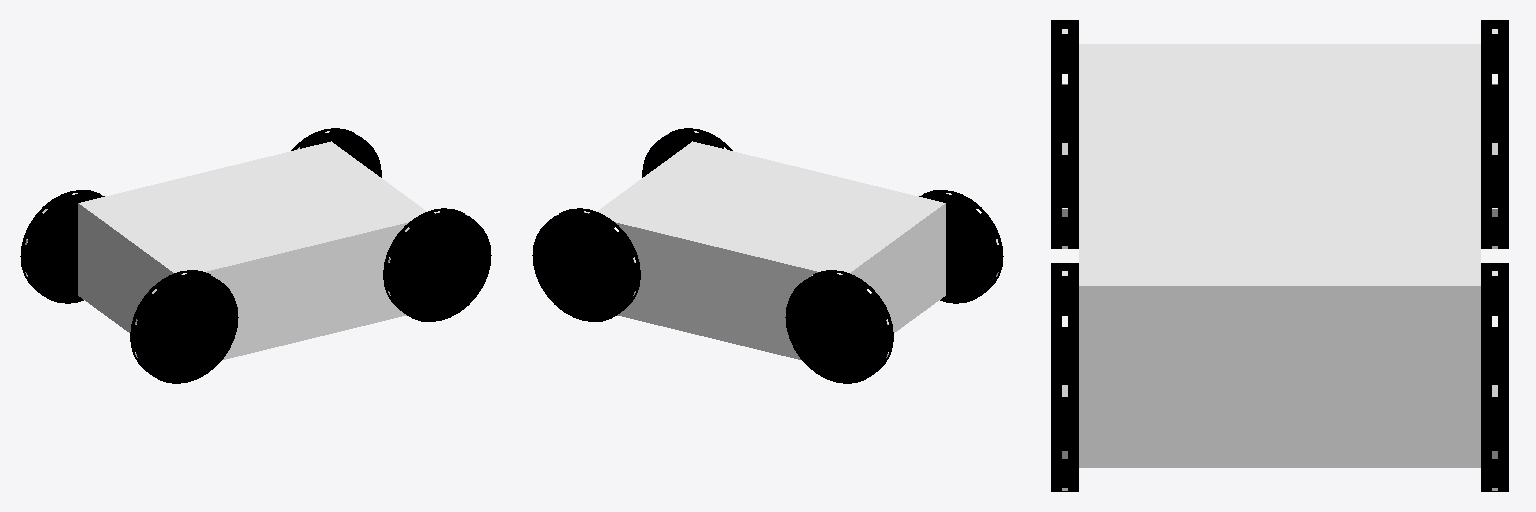
URDF robot description (adabot):
<?xml version="1.0" ?>
<!-- =================================================================================== -->
<!-- |    This document was autogenerated by xacro from adabot.xacro                   | -->
<!-- |    EDITING THIS FILE BY HAND IS NOT RECOMMENDED                                 | -->
<!-- =================================================================================== -->
<robot name="adabot" xmlns:xacro="http://www.ros.org/wiki/xacro">
  <material name="black">
    <color rgba="0 0 0 1"/>
  </material>
  <material name="white">
    <color rgba="1 1 1 1"/>
  </material>
  <material name="red">
    <color rgba=".255, 0, 0, .001"/>
  </material>
  <!--
         The main chassis/body
    -->
  <link name="base_link">
    <visual>
      <origin rpy="0 0 0" xyz="0 0 0.011"/>
      <geometry>
        <box size="0.1 0.07 0.035"/>
      </geometry>
      <material name="white"/>
    </visual>
    <collision>
      <origin rpy="0 0 0" xyz="0 0 0.011"/>
      <geometry>
        <box size="0.1 0.07 0.035"/>
      </geometry>
    </collision>
    <inertial>
      <mass value="0.1225"/>
      <inertia ixx="6.25260416667e-05" ixy="0" ixz="0" iyy="0.000114588541667" iyz="0" izz="0.000152104166667"/>
    </inertial>
  </link>
  <link name="wh-front-left">
    <visual>
      <origin rpy="1.57075 0 0" xyz="0 0 0"/>
      <geometry>
        <cylinder length="0.005" radius="0.02"/>
      </geometry>
      <material name="black"/>
    </visual>
    <collision>
      <origin rpy="1.57075 0 0" xyz="0 0 0"/>
      <geometry>
        <cylinder length="0.005" radius="0.02"/>
      </geometry>
    </collision>
    <inertial>
      <mass value="0.003145927"/>
      <inertia ixx="3.21146714583e-07" ixy="0" ixz="0" iyy="3.21146714583e-07" iyz="0" izz="6.291854e-07"/>
    </inertial>
  </link>
  <joint name="ax-front-left" type="continuous">
    <parent link="base_link"/>
    <child link="wh-front-left"/>
    <origin rpy="0 0 0" xyz="0.05 -0.0375 0.011"/>
    <axis xyz="0 1 0"/>
  </joint>
  <link name="wg-front-left-1">
    <visual>
      <origin rpy="0 0 0" xyz="0 0 0"/>
      <geometry>
        <box size="0.002 0.001 0.04"/>
      </geometry>
      <material name="white"/>
    </visual>
    <collision>
      <origin rpy="0 0 0" xyz="0 0 0"/>
      <geometry>
        <box size="0.002 0.001 0.04"/>
      </geometry>
    </collision>
    <inertial>
      <mass value="4e-05"/>
      <inertia ixx="5.33666666667e-09" ixy="0" ixz="0" iyy="5.34666666667e-09" iyz="0" izz="1.66666666667e-11"/>
    </inertial>
  </link>
  <joint name="wg-front-left-1-joint" type="prismatic">
    <parent link="wh-front-left"/>
    <child link="wg-front-left-1"/>
    <origin rpy="0 1.25663706144 0" xyz="0 0 0"/>
    <limit effort="1" lower="0.005" upper="0" velocity="1"/>
  </joint>
  <link name="wg-front-left-2">
    <visual>
      <origin rpy="0 0 0" xyz="0 0 0"/>
      <geometry>
        <box size="0.002 0.001 0.04"/>
      </geometry>
      <material name="white"/>
    </visual>
    <collision>
      <origin rpy="0 0 0" xyz="0 0 0"/>
      <geometry>
        <box size="0.002 0.001 0.04"/>
      </geometry>
    </collision>
    <inertial>
      <mass value="4e-05"/>
      <inertia ixx="5.33666666667e-09" ixy="0" ixz="0" iyy="5.34666666667e-09" iyz="0" izz="1.66666666667e-11"/>
    </inertial>
  </link>
  <joint name="wg-front-left-2-joint" type="prismatic">
    <parent link="wh-front-left"/>
    <child link="wg-front-left-2"/>
    <origin rpy="0 2.51327412287 0" xyz="0 0 0"/>
    <limit effort="1" lower="0.005" upper="0" velocity="1"/>
  </joint>
  <link name="wg-front-left-3">
    <visual>
      <origin rpy="0 0 0" xyz="0 0 0"/>
      <geometry>
        <box size="0.002 0.001 0.04"/>
      </geometry>
      <material name="white"/>
    </visual>
    <collision>
      <origin rpy="0 0 0" xyz="0 0 0"/>
      <geometry>
        <box size="0.002 0.001 0.04"/>
      </geometry>
    </collision>
    <inertial>
      <mass value="4e-05"/>
      <inertia ixx="5.33666666667e-09" ixy="0" ixz="0" iyy="5.34666666667e-09" iyz="0" izz="1.66666666667e-11"/>
    </inertial>
  </link>
  <joint name="wg-front-left-3-joint" type="prismatic">
    <parent link="wh-front-left"/>
    <child link="wg-front-left-3"/>
    <origin rpy="0 3.76991118431 0" xyz="0 0 0"/>
    <limit effort="1" lower="0.005" upper="0" velocity="1"/>
  </joint>
  <link name="wg-front-left-4">
    <visual>
      <origin rpy="0 0 0" xyz="0 0 0"/>
      <geometry>
        <box size="0.002 0.001 0.04"/>
      </geometry>
      <material name="white"/>
    </visual>
    <collision>
      <origin rpy="0 0 0" xyz="0 0 0"/>
      <geometry>
        <box size="0.002 0.001 0.04"/>
      </geometry>
    </collision>
    <inertial>
      <mass value="4e-05"/>
      <inertia ixx="5.33666666667e-09" ixy="0" ixz="0" iyy="5.34666666667e-09" iyz="0" izz="1.66666666667e-11"/>
    </inertial>
  </link>
  <joint name="wg-front-left-4-joint" type="prismatic">
    <parent link="wh-front-left"/>
    <child link="wg-front-left-4"/>
    <origin rpy="0 5.02654824574 0" xyz="0 0 0"/>
    <limit effort="1" lower="0.005" upper="0" velocity="1"/>
  </joint>
  <link name="wg-front-left-5">
    <visual>
      <origin rpy="0 0 0" xyz="0 0 0"/>
      <geometry>
        <box size="0.002 0.001 0.04"/>
      </geometry>
      <material name="white"/>
    </visual>
    <collision>
      <origin rpy="0 0 0" xyz="0 0 0"/>
      <geometry>
        <box size="0.002 0.001 0.04"/>
      </geometry>
    </collision>
    <inertial>
      <mass value="4e-05"/>
      <inertia ixx="5.33666666667e-09" ixy="0" ixz="0" iyy="5.34666666667e-09" iyz="0" izz="1.66666666667e-11"/>
    </inertial>
  </link>
  <joint name="wg-front-left-5-joint" type="prismatic">
    <parent link="wh-front-left"/>
    <child link="wg-front-left-5"/>
    <origin rpy="0 6.28318530718 0" xyz="0 0 0"/>
    <limit effort="1" lower="0.005" upper="0" velocity="1"/>
  </joint>
  <link name="wh-front-right">
    <visual>
      <origin rpy="1.57075 0 0" xyz="0 0 0"/>
      <geometry>
        <cylinder length="0.005" radius="0.02"/>
      </geometry>
      <material name="black"/>
    </visual>
    <collision>
      <origin rpy="1.57075 0 0" xyz="0 0 0"/>
      <geometry>
        <cylinder length="0.005" radius="0.02"/>
      </geometry>
    </collision>
    <inertial>
      <mass value="0.003145927"/>
      <inertia ixx="3.21146714583e-07" ixy="0" ixz="0" iyy="3.21146714583e-07" iyz="0" izz="6.291854e-07"/>
    </inertial>
  </link>
  <joint name="ax-front-right" type="continuous">
    <parent link="base_link"/>
    <child link="wh-front-right"/>
    <origin rpy="0 0 0" xyz="0.05 0.0375 0.011"/>
    <axis xyz="0 1 0"/>
  </joint>
  <link name="wg-front-right-1">
    <visual>
      <origin rpy="0 0 0" xyz="0 0 0"/>
      <geometry>
        <box size="0.002 0.001 0.04"/>
      </geometry>
      <material name="white"/>
    </visual>
    <collision>
      <origin rpy="0 0 0" xyz="0 0 0"/>
      <geometry>
        <box size="0.002 0.001 0.04"/>
      </geometry>
    </collision>
    <inertial>
      <mass value="4e-05"/>
      <inertia ixx="5.33666666667e-09" ixy="0" ixz="0" iyy="5.34666666667e-09" iyz="0" izz="1.66666666667e-11"/>
    </inertial>
  </link>
  <joint name="wg-front-right-1-joint" type="prismatic">
    <parent link="wh-front-right"/>
    <child link="wg-front-right-1"/>
    <origin rpy="0 1.25663706144 0" xyz="0 0 0"/>
    <limit effort="1" lower="0.005" upper="0" velocity="1"/>
  </joint>
  <link name="wg-front-right-2">
    <visual>
      <origin rpy="0 0 0" xyz="0 0 0"/>
      <geometry>
        <box size="0.002 0.001 0.04"/>
      </geometry>
      <material name="white"/>
    </visual>
    <collision>
      <origin rpy="0 0 0" xyz="0 0 0"/>
      <geometry>
        <box size="0.002 0.001 0.04"/>
      </geometry>
    </collision>
    <inertial>
      <mass value="4e-05"/>
      <inertia ixx="5.33666666667e-09" ixy="0" ixz="0" iyy="5.34666666667e-09" iyz="0" izz="1.66666666667e-11"/>
    </inertial>
  </link>
  <joint name="wg-front-right-2-joint" type="prismatic">
    <parent link="wh-front-right"/>
    <child link="wg-front-right-2"/>
    <origin rpy="0 2.51327412287 0" xyz="0 0 0"/>
    <limit effort="1" lower="0.005" upper="0" velocity="1"/>
  </joint>
  <link name="wg-front-right-3">
    <visual>
      <origin rpy="0 0 0" xyz="0 0 0"/>
      <geometry>
        <box size="0.002 0.001 0.04"/>
      </geometry>
      <material name="white"/>
    </visual>
    <collision>
      <origin rpy="0 0 0" xyz="0 0 0"/>
      <geometry>
        <box size="0.002 0.001 0.04"/>
      </geometry>
    </collision>
    <inertial>
      <mass value="4e-05"/>
      <inertia ixx="5.33666666667e-09" ixy="0" ixz="0" iyy="5.34666666667e-09" iyz="0" izz="1.66666666667e-11"/>
    </inertial>
  </link>
  <joint name="wg-front-right-3-joint" type="prismatic">
    <parent link="wh-front-right"/>
    <child link="wg-front-right-3"/>
    <origin rpy="0 3.76991118431 0" xyz="0 0 0"/>
    <limit effort="1" lower="0.005" upper="0" velocity="1"/>
  </joint>
  <link name="wg-front-right-4">
    <visual>
      <origin rpy="0 0 0" xyz="0 0 0"/>
      <geometry>
        <box size="0.002 0.001 0.04"/>
      </geometry>
      <material name="white"/>
    </visual>
    <collision>
      <origin rpy="0 0 0" xyz="0 0 0"/>
      <geometry>
        <box size="0.002 0.001 0.04"/>
      </geometry>
    </collision>
    <inertial>
      <mass value="4e-05"/>
      <inertia ixx="5.33666666667e-09" ixy="0" ixz="0" iyy="5.34666666667e-09" iyz="0" izz="1.66666666667e-11"/>
    </inertial>
  </link>
  <joint name="wg-front-right-4-joint" type="prismatic">
    <parent link="wh-front-right"/>
    <child link="wg-front-right-4"/>
    <origin rpy="0 5.02654824574 0" xyz="0 0 0"/>
    <limit effort="1" lower="0.005" upper="0" velocity="1"/>
  </joint>
  <link name="wg-front-right-5">
    <visual>
      <origin rpy="0 0 0" xyz="0 0 0"/>
      <geometry>
        <box size="0.002 0.001 0.04"/>
      </geometry>
      <material name="white"/>
    </visual>
    <collision>
      <origin rpy="0 0 0" xyz="0 0 0"/>
      <geometry>
        <box size="0.002 0.001 0.04"/>
      </geometry>
    </collision>
    <inertial>
      <mass value="4e-05"/>
      <inertia ixx="5.33666666667e-09" ixy="0" ixz="0" iyy="5.34666666667e-09" iyz="0" izz="1.66666666667e-11"/>
    </inertial>
  </link>
  <joint name="wg-front-right-5-joint" type="prismatic">
    <parent link="wh-front-right"/>
    <child link="wg-front-right-5"/>
    <origin rpy="0 6.28318530718 0" xyz="0 0 0"/>
    <limit effort="1" lower="0.005" upper="0" velocity="1"/>
  </joint>
  <link name="wh-back-left">
    <visual>
      <origin rpy="1.57075 0 0" xyz="0 0 0"/>
      <geometry>
        <cylinder length="0.005" radius="0.02"/>
      </geometry>
      <material name="black"/>
    </visual>
    <collision>
      <origin rpy="1.57075 0 0" xyz="0 0 0"/>
      <geometry>
        <cylinder length="0.005" radius="0.02"/>
      </geometry>
    </collision>
    <inertial>
      <mass value="0.003145927"/>
      <inertia ixx="3.21146714583e-07" ixy="0" ixz="0" iyy="3.21146714583e-07" iyz="0" izz="6.291854e-07"/>
    </inertial>
  </link>
  <joint name="ax-back-left" type="continuous">
    <parent link="base_link"/>
    <child link="wh-back-left"/>
    <origin rpy="0 0 0" xyz="-0.05 -0.0375 0.011"/>
    <axis xyz="0 1 0"/>
  </joint>
  <link name="wg-back-left-1">
    <visual>
      <origin rpy="0 0 0" xyz="0 0 0"/>
      <geometry>
        <box size="0.002 0.001 0.04"/>
      </geometry>
      <material name="white"/>
    </visual>
    <collision>
      <origin rpy="0 0 0" xyz="0 0 0"/>
      <geometry>
        <box size="0.002 0.001 0.04"/>
      </geometry>
    </collision>
    <inertial>
      <mass value="4e-05"/>
      <inertia ixx="5.33666666667e-09" ixy="0" ixz="0" iyy="5.34666666667e-09" iyz="0" izz="1.66666666667e-11"/>
    </inertial>
  </link>
  <joint name="wg-back-left-1-joint" type="prismatic">
    <parent link="wh-back-left"/>
    <child link="wg-back-left-1"/>
    <origin rpy="0 1.25663706144 0" xyz="0 0 0"/>
    <limit effort="1" lower="0.005" upper="0" velocity="1"/>
  </joint>
  <link name="wg-back-left-2">
    <visual>
      <origin rpy="0 0 0" xyz="0 0 0"/>
      <geometry>
        <box size="0.002 0.001 0.04"/>
      </geometry>
      <material name="white"/>
    </visual>
    <collision>
      <origin rpy="0 0 0" xyz="0 0 0"/>
      <geometry>
        <box size="0.002 0.001 0.04"/>
      </geometry>
    </collision>
    <inertial>
      <mass value="4e-05"/>
      <inertia ixx="5.33666666667e-09" ixy="0" ixz="0" iyy="5.34666666667e-09" iyz="0" izz="1.66666666667e-11"/>
    </inertial>
  </link>
  <joint name="wg-back-left-2-joint" type="prismatic">
    <parent link="wh-back-left"/>
    <child link="wg-back-left-2"/>
    <origin rpy="0 2.51327412287 0" xyz="0 0 0"/>
    <limit effort="1" lower="0.005" upper="0" velocity="1"/>
  </joint>
  <link name="wg-back-left-3">
    <visual>
      <origin rpy="0 0 0" xyz="0 0 0"/>
      <geometry>
        <box size="0.002 0.001 0.04"/>
      </geometry>
      <material name="white"/>
    </visual>
    <collision>
      <origin rpy="0 0 0" xyz="0 0 0"/>
      <geometry>
        <box size="0.002 0.001 0.04"/>
      </geometry>
    </collision>
    <inertial>
      <mass value="4e-05"/>
      <inertia ixx="5.33666666667e-09" ixy="0" ixz="0" iyy="5.34666666667e-09" iyz="0" izz="1.66666666667e-11"/>
    </inertial>
  </link>
  <joint name="wg-back-left-3-joint" type="prismatic">
    <parent link="wh-back-left"/>
    <child link="wg-back-left-3"/>
    <origin rpy="0 3.76991118431 0" xyz="0 0 0"/>
    <limit effort="1" lower="0.005" upper="0" velocity="1"/>
  </joint>
  <link name="wg-back-left-4">
    <visual>
      <origin rpy="0 0 0" xyz="0 0 0"/>
      <geometry>
        <box size="0.002 0.001 0.04"/>
      </geometry>
      <material name="white"/>
    </visual>
    <collision>
      <origin rpy="0 0 0" xyz="0 0 0"/>
      <geometry>
        <box size="0.002 0.001 0.04"/>
      </geometry>
    </collision>
    <inertial>
      <mass value="4e-05"/>
      <inertia ixx="5.33666666667e-09" ixy="0" ixz="0" iyy="5.34666666667e-09" iyz="0" izz="1.66666666667e-11"/>
    </inertial>
  </link>
  <joint name="wg-back-left-4-joint" type="prismatic">
    <parent link="wh-back-left"/>
    <child link="wg-back-left-4"/>
    <origin rpy="0 5.02654824574 0" xyz="0 0 0"/>
    <limit effort="1" lower="0.005" upper="0" velocity="1"/>
  </joint>
  <link name="wg-back-left-5">
    <visual>
      <origin rpy="0 0 0" xyz="0 0 0"/>
      <geometry>
        <box size="0.002 0.001 0.04"/>
      </geometry>
      <material name="white"/>
    </visual>
    <collision>
      <origin rpy="0 0 0" xyz="0 0 0"/>
      <geometry>
        <box size="0.002 0.001 0.04"/>
      </geometry>
    </collision>
    <inertial>
      <mass value="4e-05"/>
      <inertia ixx="5.33666666667e-09" ixy="0" ixz="0" iyy="5.34666666667e-09" iyz="0" izz="1.66666666667e-11"/>
    </inertial>
  </link>
  <joint name="wg-back-left-5-joint" type="prismatic">
    <parent link="wh-back-left"/>
    <child link="wg-back-left-5"/>
    <origin rpy="0 6.28318530718 0" xyz="0 0 0"/>
    <limit effort="1" lower="0.005" upper="0" velocity="1"/>
  </joint>
  <link name="wh-back-right">
    <visual>
      <origin rpy="1.57075 0 0" xyz="0 0 0"/>
      <geometry>
        <cylinder length="0.005" radius="0.02"/>
      </geometry>
      <material name="black"/>
    </visual>
    <collision>
      <origin rpy="1.57075 0 0" xyz="0 0 0"/>
      <geometry>
        <cylinder length="0.005" radius="0.02"/>
      </geometry>
    </collision>
    <inertial>
      <mass value="0.003145927"/>
      <inertia ixx="3.21146714583e-07" ixy="0" ixz="0" iyy="3.21146714583e-07" iyz="0" izz="6.291854e-07"/>
    </inertial>
  </link>
  <joint name="ax-back-right" type="continuous">
    <parent link="base_link"/>
    <child link="wh-back-right"/>
    <origin rpy="0 0 0" xyz="-0.05 0.0375 0.011"/>
    <axis xyz="0 1 0"/>
  </joint>
  <link name="wg-back-right-1">
    <visual>
      <origin rpy="0 0 0" xyz="0 0 0"/>
      <geometry>
        <box size="0.002 0.001 0.04"/>
      </geometry>
      <material name="white"/>
    </visual>
    <collision>
      <origin rpy="0 0 0" xyz="0 0 0"/>
      <geometry>
        <box size="0.002 0.001 0.04"/>
      </geometry>
    </collision>
    <inertial>
      <mass value="4e-05"/>
      <inertia ixx="5.33666666667e-09" ixy="0" ixz="0" iyy="5.34666666667e-09" iyz="0" izz="1.66666666667e-11"/>
    </inertial>
  </link>
  <joint name="wg-back-right-1-joint" type="prismatic">
    <parent link="wh-back-right"/>
    <child link="wg-back-right-1"/>
    <origin rpy="0 1.25663706144 0" xyz="0 0 0"/>
    <limit effort="1" lower="0.005" upper="0" velocity="1"/>
  </joint>
  <link name="wg-back-right-2">
    <visual>
      <origin rpy="0 0 0" xyz="0 0 0"/>
      <geometry>
        <box size="0.002 0.001 0.04"/>
      </geometry>
      <material name="white"/>
    </visual>
    <collision>
      <origin rpy="0 0 0" xyz="0 0 0"/>
      <geometry>
        <box size="0.002 0.001 0.04"/>
      </geometry>
    </collision>
    <inertial>
      <mass value="4e-05"/>
      <inertia ixx="5.33666666667e-09" ixy="0" ixz="0" iyy="5.34666666667e-09" iyz="0" izz="1.66666666667e-11"/>
    </inertial>
  </link>
  <joint name="wg-back-right-2-joint" type="prismatic">
    <parent link="wh-back-right"/>
    <child link="wg-back-right-2"/>
    <origin rpy="0 2.51327412287 0" xyz="0 0 0"/>
    <limit effort="1" lower="0.005" upper="0" velocity="1"/>
  </joint>
  <link name="wg-back-right-3">
    <visual>
      <origin rpy="0 0 0" xyz="0 0 0"/>
      <geometry>
        <box size="0.002 0.001 0.04"/>
      </geometry>
      <material name="white"/>
    </visual>
    <collision>
      <origin rpy="0 0 0" xyz="0 0 0"/>
      <geometry>
        <box size="0.002 0.001 0.04"/>
      </geometry>
    </collision>
    <inertial>
      <mass value="4e-05"/>
      <inertia ixx="5.33666666667e-09" ixy="0" ixz="0" iyy="5.34666666667e-09" iyz="0" izz="1.66666666667e-11"/>
    </inertial>
  </link>
  <joint name="wg-back-right-3-joint" type="prismatic">
    <parent link="wh-back-right"/>
    <child link="wg-back-right-3"/>
    <origin rpy="0 3.76991118431 0" xyz="0 0 0"/>
    <limit effort="1" lower="0.005" upper="0" velocity="1"/>
  </joint>
  <link name="wg-back-right-4">
    <visual>
      <origin rpy="0 0 0" xyz="0 0 0"/>
      <geometry>
        <box size="0.002 0.001 0.04"/>
      </geometry>
      <material name="white"/>
    </visual>
    <collision>
      <origin rpy="0 0 0" xyz="0 0 0"/>
      <geometry>
        <box size="0.002 0.001 0.04"/>
      </geometry>
    </collision>
    <inertial>
      <mass value="4e-05"/>
      <inertia ixx="5.33666666667e-09" ixy="0" ixz="0" iyy="5.34666666667e-09" iyz="0" izz="1.66666666667e-11"/>
    </inertial>
  </link>
  <joint name="wg-back-right-4-joint" type="prismatic">
    <parent link="wh-back-right"/>
    <child link="wg-back-right-4"/>
    <origin rpy="0 5.02654824574 0" xyz="0 0 0"/>
    <limit effort="1" lower="0.005" upper="0" velocity="1"/>
  </joint>
  <link name="wg-back-right-5">
    <visual>
      <origin rpy="0 0 0" xyz="0 0 0"/>
      <geometry>
        <box size="0.002 0.001 0.04"/>
      </geometry>
      <material name="white"/>
    </visual>
    <collision>
      <origin rpy="0 0 0" xyz="0 0 0"/>
      <geometry>
        <box size="0.002 0.001 0.04"/>
      </geometry>
    </collision>
    <inertial>
      <mass value="4e-05"/>
      <inertia ixx="5.33666666667e-09" ixy="0" ixz="0" iyy="5.34666666667e-09" iyz="0" izz="1.66666666667e-11"/>
    </inertial>
  </link>
  <joint name="wg-back-right-5-joint" type="prismatic">
    <parent link="wh-back-right"/>
    <child link="wg-back-right-5"/>
    <origin rpy="0 6.28318530718 0" xyz="0 0 0"/>
    <limit effort="1" lower="0.005" upper="0" velocity="1"/>
  </joint>
</robot>

--- Facts derived from the render (not from the file) ---
3 views of the same robot in one strip: view 1: azimuth 30°, elevation 25°; view 2: azimuth 150°, elevation 25°; view 3: azimuth 270°, elevation 25° (orthographic).
Model adabot with 25 links and 24 joints (4 continuous, 20 prismatic), rooted at base_link, posed every joint at zero.
Links seen in each view (by area): view 1: base_link, wh-back-left, wh-front-left, wh-back-right, wh-front-right; view 2: base_link, wh-back-right, wh-front-right, wh-back-left, wh-front-left; view 3: base_link, wh-front-left, wh-front-right, wh-back-left, wh-back-right.
Boxes of the visible links, bbox=[...] form: base_link: bbox=[78, 141, 426, 359]; wh-back-left: bbox=[130, 270, 238, 383]; wh-front-left: bbox=[383, 208, 491, 321]; wh-back-right: bbox=[20, 190, 104, 303]; wh-front-right: bbox=[291, 128, 381, 177]; base_link: bbox=[597, 141, 945, 359]; wh-back-right: bbox=[785, 270, 893, 383]; wh-front-right: bbox=[532, 208, 640, 321]; wh-back-left: bbox=[919, 190, 1003, 303]; wh-front-left: bbox=[642, 128, 732, 177]; base_link: bbox=[1079, 44, 1480, 467]; wh-front-left: bbox=[1051, 263, 1078, 491]; wh-front-right: bbox=[1481, 263, 1508, 491]; wh-back-left: bbox=[1051, 20, 1078, 248]; wh-back-right: bbox=[1481, 20, 1508, 248].
Bounding box of the posed robot: 0.14 × 0.08 × 0.04 m (x, y, z).
Geometry: primitives only (box / cylinder / sphere), no mesh files.